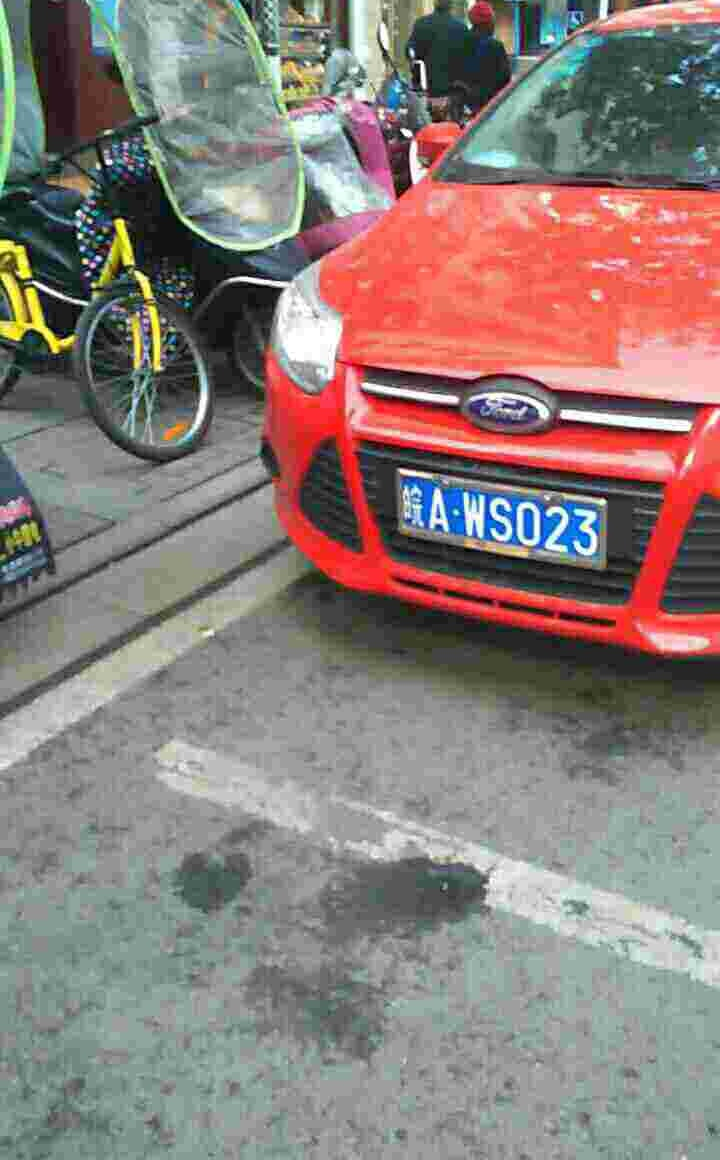license_plate: (403, 480, 600, 560)
